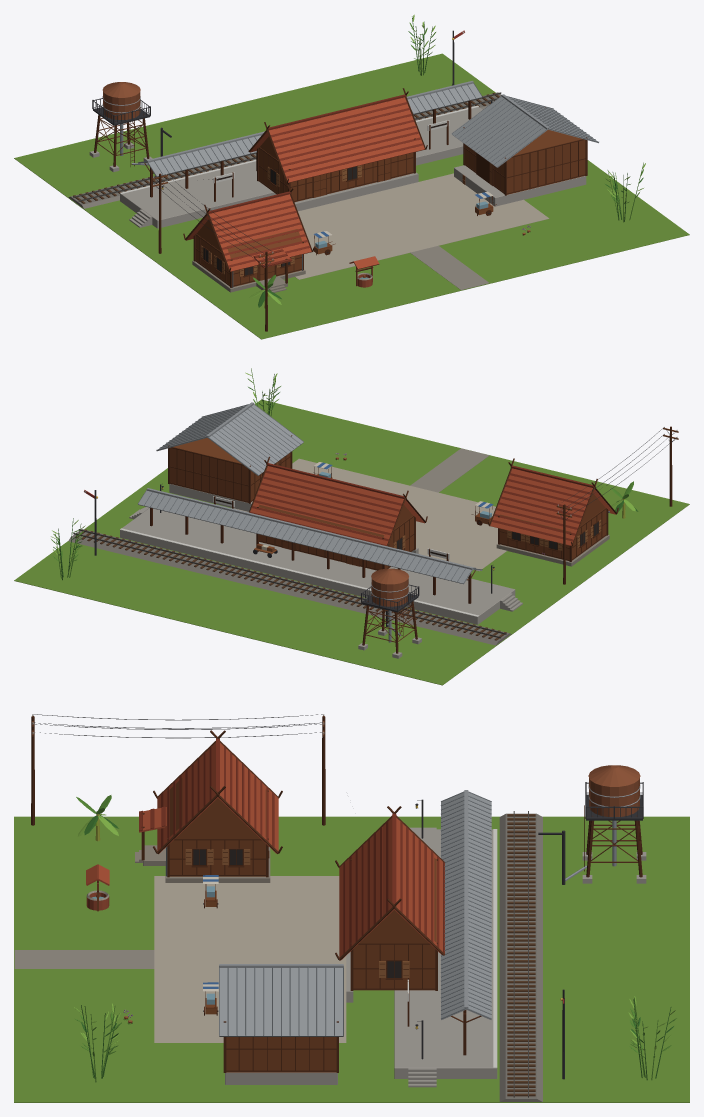
The model's file is station.glb.
3 views of the same model, one above another, from view 1: azimuth 30°, elevation 25°; view 2: azimuth 150°, elevation 25°; view 3: azimuth 270°, elevation 25° (orthographic). The views are drawn at different scales.
Visible parts, largest first — view 1: body; view 2: body; view 3: body, windows.
Part boxes in pixels (box(x1,y1,x2,y2)): body: box(14, 14, 689, 339); body: box(14, 368, 689, 685); body: box(14, 714, 689, 1102); windows: box(193, 805, 562, 1028).
Bounding box in the file's own units: 47.9 × 8.74 × 47.9.
